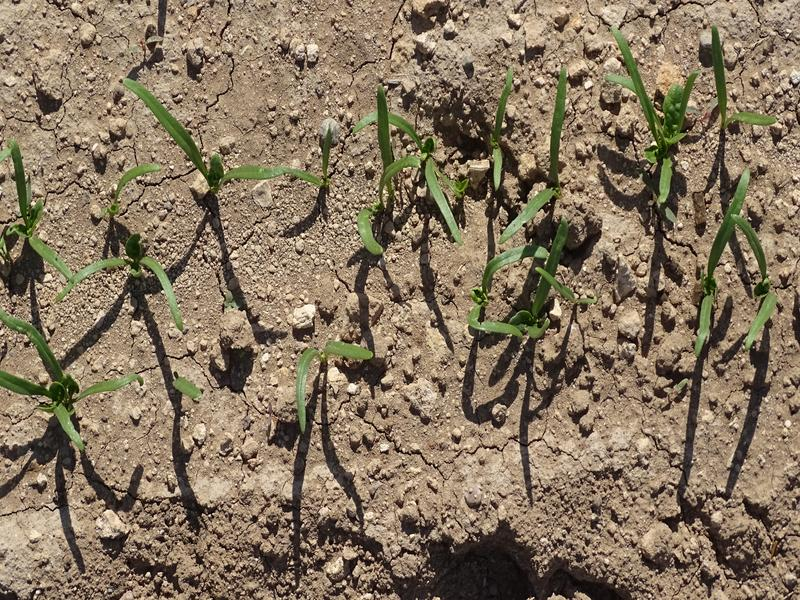Espinaca: (467, 60, 574, 338), (127, 74, 327, 191), (611, 32, 776, 169), (347, 82, 461, 253), (1, 317, 143, 447), (693, 170, 784, 342), (293, 335, 374, 429), (9, 151, 69, 277), (64, 259, 193, 314)
